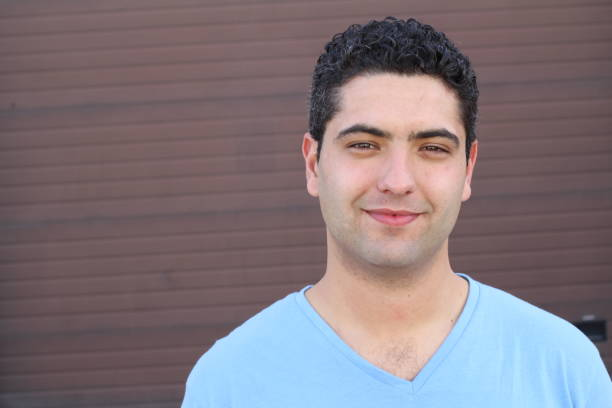person: (301, 15, 478, 272)
